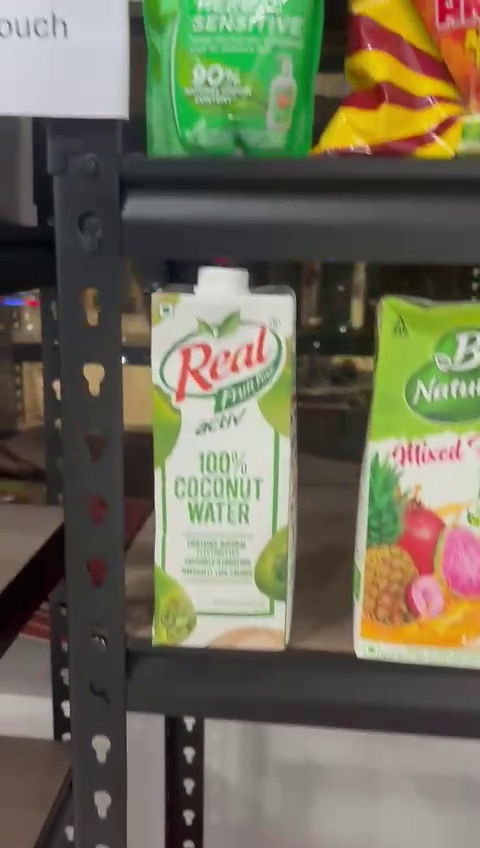Coconut water: (144, 264, 300, 653)
